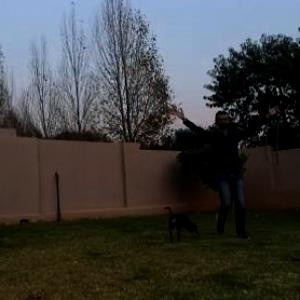takeoff: (169, 100, 283, 228)
